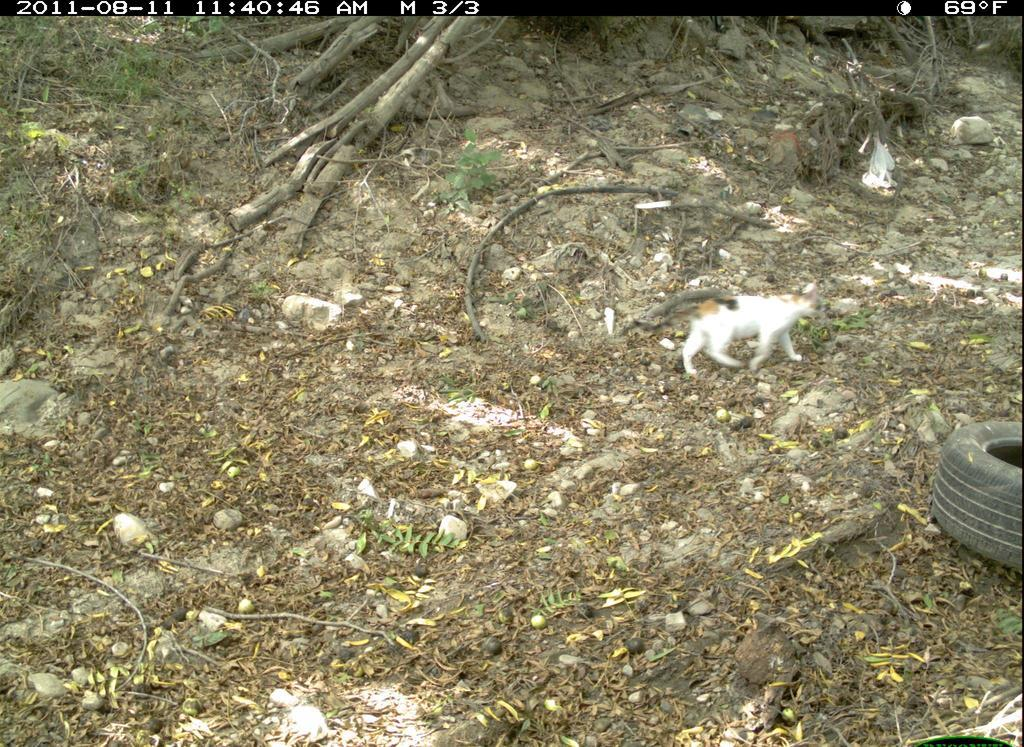cat: (630, 271, 834, 381)
